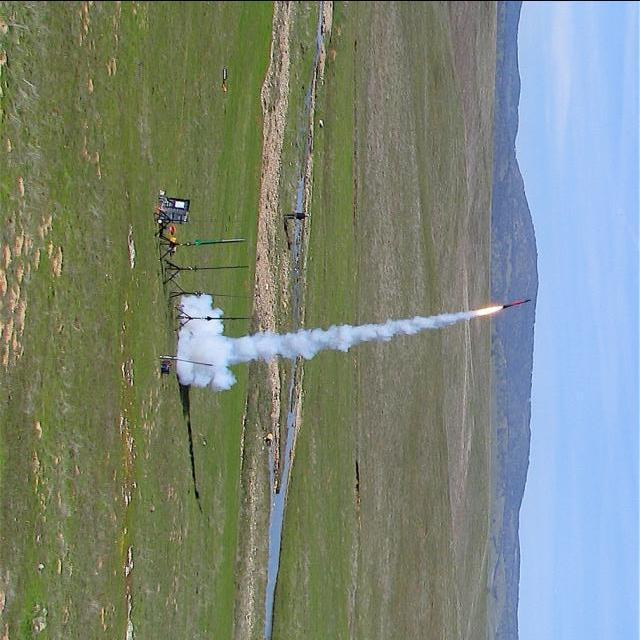missile: (498, 294, 540, 311)
